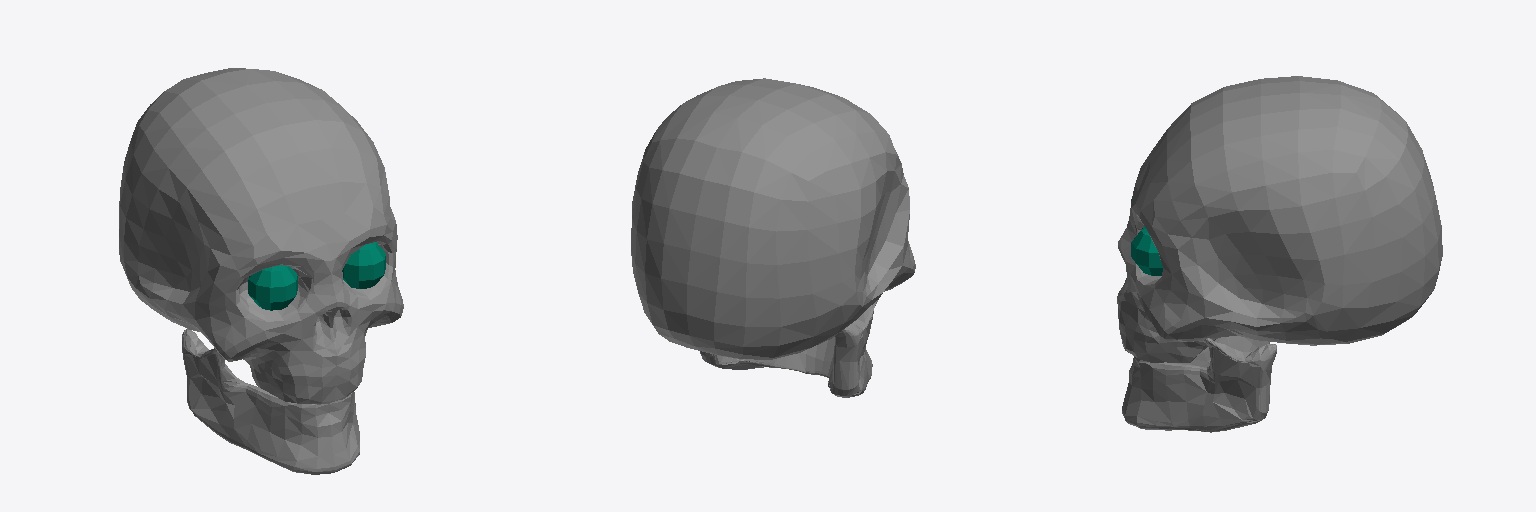
File: Skull.obj
The picture shows the model from 3 angles: view 1: azimuth 30°, elevation 25°; view 2: azimuth 150°, elevation 25°; view 3: azimuth 270°, elevation 25°; orthographic projection.
Visible parts, largest first — view 1: caveira_cranio_low_Group42032, caveira_cranio_low_ZBrushPolyMesh3D, EyeRight, EyeLeft; view 2: caveira_cranio_low_Group42032, caveira_cranio_low_ZBrushPolyMesh3D; view 3: caveira_cranio_low_Group42032, caveira_cranio_low_ZBrushPolyMesh3D, EyeLeft.
Part boxes in pixels (left/top/right/bottom): caveira_cranio_low_Group42032: left=119, top=68, right=403, bottom=403; caveira_cranio_low_ZBrushPolyMesh3D: left=182, top=329, right=359, bottom=474; EyeRight: left=248, top=265, right=297, bottom=310; EyeLeft: left=342, top=242, right=385, bottom=288; caveira_cranio_low_Group42032: left=631, top=78, right=915, bottom=359; caveira_cranio_low_ZBrushPolyMesh3D: left=700, top=300, right=877, bottom=397; caveira_cranio_low_Group42032: left=1117, top=76, right=1442, bottom=362; caveira_cranio_low_ZBrushPolyMesh3D: left=1122, top=336, right=1276, bottom=432; EyeLeft: left=1131, top=226, right=1162, bottom=275.
Size of the model in its own units: 3.2 by 4.53 by 4.09.